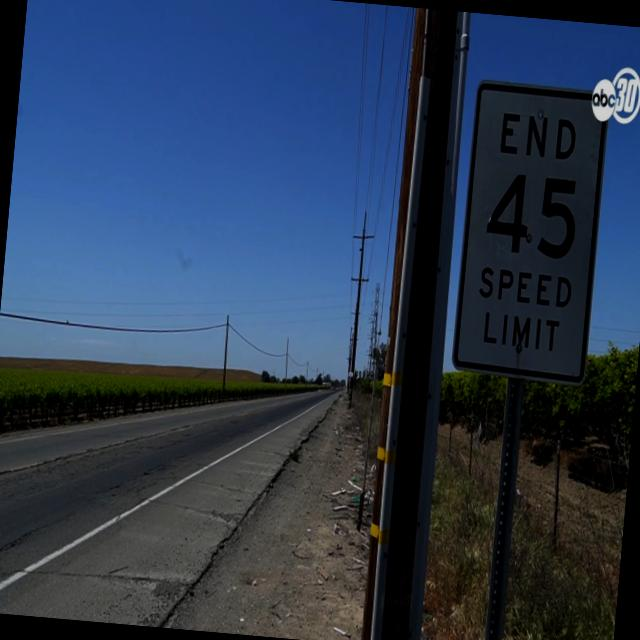Speed Limit Signs: (448, 74, 613, 390)
